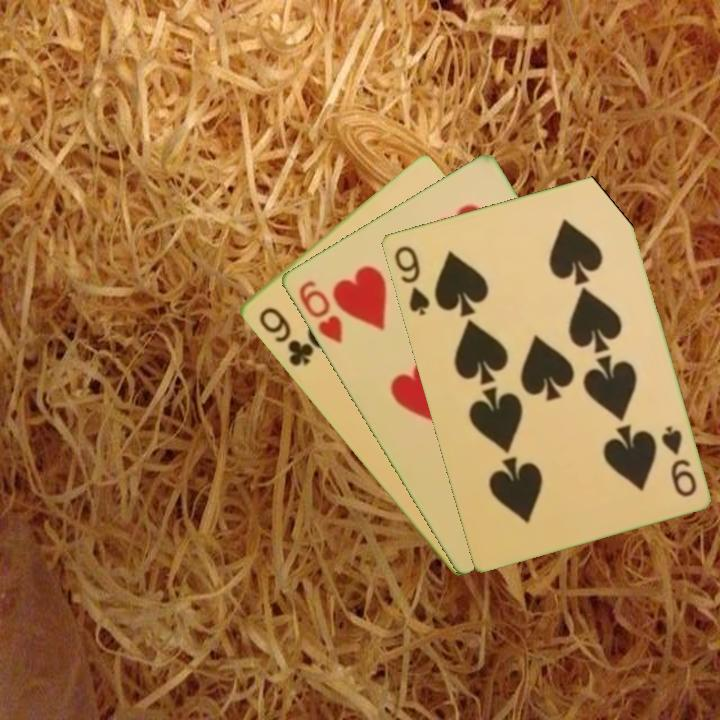6h: (294, 277, 345, 347)
9c: (254, 303, 316, 370)
9s: (657, 422, 699, 500), (390, 242, 432, 318)
